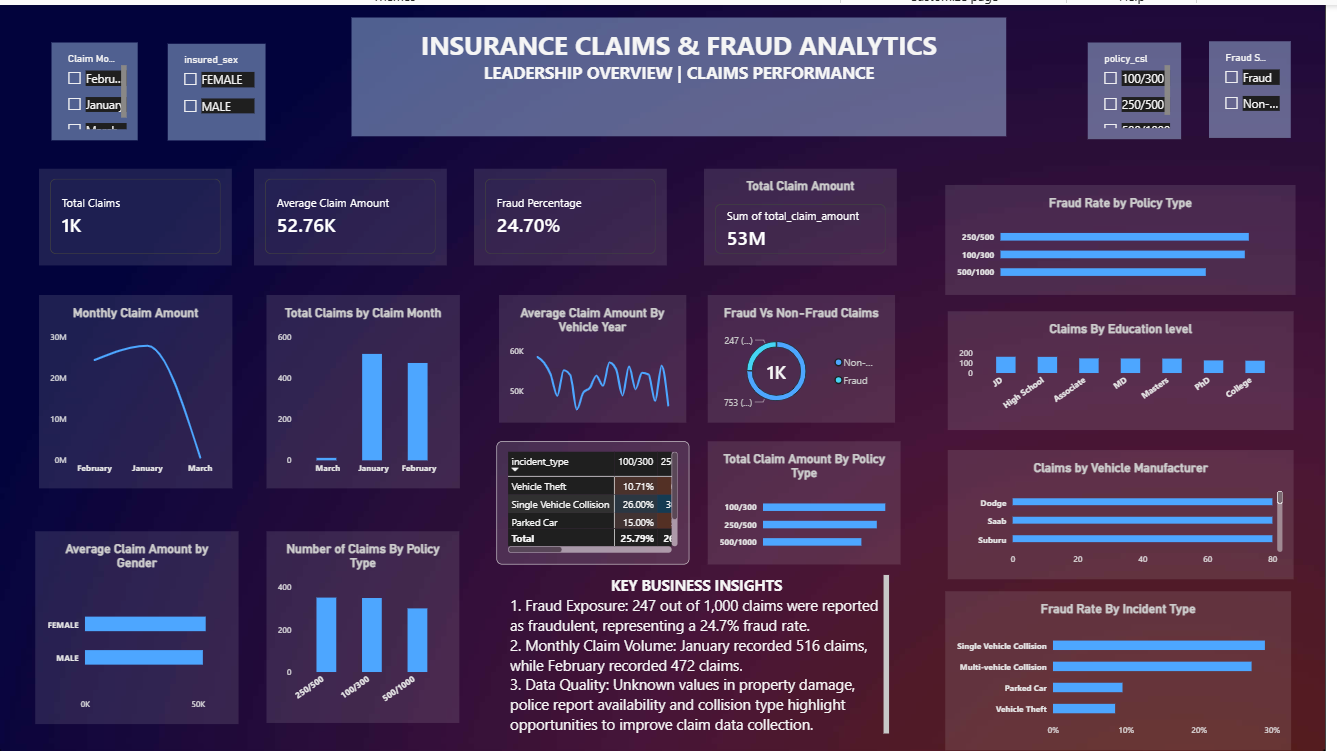

This screenshot's page, from the dashboard's own definition file:
{"tool":"powerbi","page":{"name":"Insurance Claims","canvas":[1920,1080],"ordinal":0},"visuals":[{"type":"cardVisual","fields":{"Data":["Insurance Claims Dataset.Fraud Percentage"]},"box":[688.2,236.6,279.6,139.8],"z":0},{"type":"cardVisual","fields":{"Data":["Insurance Claims Dataset.Average Claim Amount"]},"box":[369.9,236.6,279.6,139.8],"z":1000},{"type":"cardVisual","fields":{"Data":["Insurance Claims Dataset.Total Claims"]},"box":[58.1,236.6,279.6,139.8],"z":2000},{"type":"cardVisual","title":"Total Claim Amount","fields":{"Data":["Sum(Insurance Claims Dataset.total_claim_amount)"]},"box":[1021.5,236.6,279.6,139.8],"z":3000},{"type":"clusteredColumnChart","fields":{"Category":["Insurance Claims Dataset.Claim Month"],"Y":["Insurance Claims Dataset.Total Claims"]},"box":[387.1,419.4,280,280],"z":4000},{"type":"lineChart","title":"Monthly Claim Amount","fields":{"Category":["Insurance Claims Dataset.Claim Month"],"Y":["Insurance Claims Dataset.Total Claim Amount"]},"box":[58.1,419.4,280,280],"z":5000},{"type":"clusteredBarChart","title":" Total Claim Amount By Policy Type","fields":{"Category":["Insurance Claims Dataset.policy_csl"],"Y":["Insurance Claims Dataset.Claim Amount By Policy"]},"box":[1025.8,632.3,279.6,178.5],"z":6000},{"type":"clusteredColumnChart","title":"Number of Claims By Policy Type","fields":{"Category":["Insurance Claims Dataset.policy_csl"],"Y":["Insurance Claims Dataset.Claim Count By Policy"]},"box":[387.1,761.3,279.6,277.4],"z":7000},{"type":"donutChart","title":"Fraud Vs Non-Fraud Claims ","fields":{"Category":["Insurance Claims Dataset.Fraud Status"],"Y":["Insurance Claims Dataset.Total Claims"]},"box":[1025.8,419.4,271,184.9],"z":8000},{"type":"clusteredBarChart","title":"Fraud Rate by Policy Type","fields":{"Category":["Insurance Claims Dataset.policy_csl"],"Y":["Insurance Claims Dataset.Fraud Percentage"]},"box":[1369.9,260.2,507.5,159.1],"z":9000},{"type":"clusteredBarChart","title":"Fraud Rate By Incident Type","fields":{"Category":["Insurance Claims Dataset.incident_type"],"Y":["Insurance Claims Dataset.Fraud Percentage"]},"box":[1369.9,849.5,501.1,230.1],"z":10000},{"type":"pivotTable","fields":{"Columns":["Insurance Claims Dataset.policy_csl"],"Rows":["Insurance Claims Dataset.incident_type"],"Values":["Insurance Claims Dataset.Fraud Percentage"]},"box":[720.4,632.3,279.6,178.5],"z":11000},{"type":"clusteredColumnChart","title":"Claims By Education level","fields":{"Category":["Insurance Claims Dataset.insured_education_level"],"Y":["Insurance Claims Dataset.Total Claims"]},"box":[1374.2,443,501.1,172],"z":12000},{"type":"clusteredBarChart","title":"Claims by Vehicle Manufacturer","fields":{"Category":["Insurance Claims Dataset.auto_make"],"Y":["Insurance Claims Dataset.Total Claims"]},"box":[1374.2,645.2,501.1,187.1],"z":13000},{"type":"lineChart","title":"Average Claim Amount By Vehicle Year ","fields":{"Category":["Insurance Claims Dataset.auto_year"],"Y":["Insurance Claims Dataset.Average Claim Amount"]},"box":[724.7,419.4,271,184.9],"z":14000},{"type":"clusteredBarChart","title":"Average Claim Amount by Gender","fields":{"Category":["Insurance Claims Dataset.insured_sex"],"Y":["Insurance Claims Dataset.Average Claim Amount"]},"box":[51.6,761.3,294.6,279.6],"z":15000},{"type":"slicer","fields":{"Values":["Insurance Claims Dataset.Claim Month"]},"box":[75.3,53.8,124.7,141.9],"z":16000},{"type":"slicer","fields":{"Values":["Insurance Claims Dataset.insured_sex"]},"box":[245.2,55.9,141.9,139.8],"z":17000},{"type":"slicer","fields":{"Values":["Insurance Claims Dataset.policy_csl"]},"box":[1576.3,53.8,135.5,139.8],"z":18000},{"type":"slicer","fields":{"Values":["Insurance Claims Dataset.Fraud Status"]},"box":[1752.7,51.6,118.3,139.8],"z":19000},{"type":"textbox","box":[509.7,17.2,948.4,172],"z":20000},{"type":"textbox","box":[724.7,810.8,580.6,268.8],"z":21000}]}

Visuals, with their boxes on the page's 1920x1080 design canvas (x1, y1, x2, y2). These are canvas units, not pixel positions in the 1337x751 screenshot, which may show the page scaled, cropped or inside an application window:
cardVisual - Insurance Claims Dataset.Fraud Percentage: x1=688, y1=237, x2=968, y2=376
cardVisual - Insurance Claims Dataset.Average Claim Amount: x1=370, y1=237, x2=650, y2=376
cardVisual - Insurance Claims Dataset.Total Claims: x1=58, y1=237, x2=338, y2=376
"Total Claim Amount" cardVisual: x1=1022, y1=237, x2=1301, y2=376
clusteredColumnChart - Insurance Claims Dataset.Claim Month x Insurance Claims Dataset.Total Claims: x1=387, y1=419, x2=667, y2=699
"Monthly Claim Amount" lineChart: x1=58, y1=419, x2=338, y2=699
" Total Claim Amount By Policy Type" clusteredBarChart: x1=1026, y1=632, x2=1305, y2=811
"Number of Claims By Policy Type" clusteredColumnChart: x1=387, y1=761, x2=667, y2=1039
"Fraud Vs Non-Fraud Claims " donutChart: x1=1026, y1=419, x2=1297, y2=604
"Fraud Rate by Policy Type" clusteredBarChart: x1=1370, y1=260, x2=1877, y2=419
"Fraud Rate By Incident Type" clusteredBarChart: x1=1370, y1=850, x2=1871, y2=1080
pivotTable - Insurance Claims Dataset.policy_csl x Insurance Claims Dataset.incident_type: x1=720, y1=632, x2=1000, y2=811
"Claims By Education level" clusteredColumnChart: x1=1374, y1=443, x2=1875, y2=615
"Claims by Vehicle Manufacturer" clusteredBarChart: x1=1374, y1=645, x2=1875, y2=832
"Average Claim Amount By Vehicle Year " lineChart: x1=725, y1=419, x2=996, y2=604
"Average Claim Amount by Gender" clusteredBarChart: x1=52, y1=761, x2=346, y2=1041
slicer - Insurance Claims Dataset.Claim Month: x1=75, y1=54, x2=200, y2=196
slicer - Insurance Claims Dataset.insured_sex: x1=245, y1=56, x2=387, y2=196
slicer - Insurance Claims Dataset.policy_csl: x1=1576, y1=54, x2=1712, y2=194
slicer - Insurance Claims Dataset.Fraud Status: x1=1753, y1=52, x2=1871, y2=191
textbox: x1=510, y1=17, x2=1458, y2=189
textbox: x1=725, y1=811, x2=1305, y2=1080
